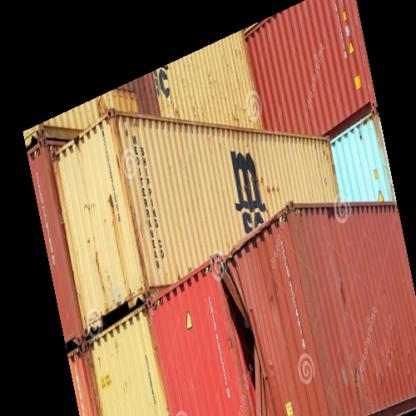Damage: (207, 272, 268, 388)
